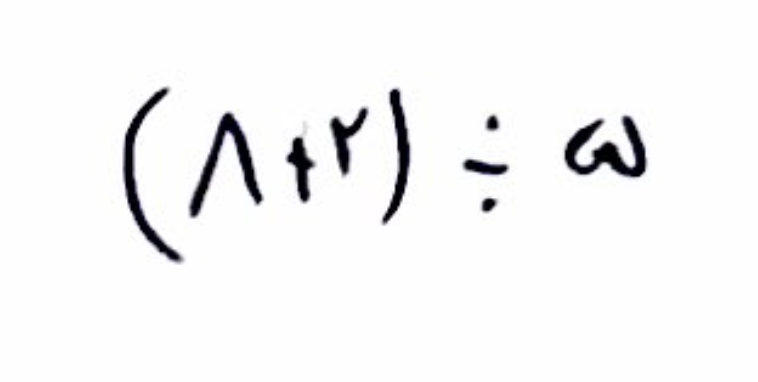character: (123, 84, 180, 262), (190, 112, 263, 217), (564, 113, 647, 178), (462, 114, 509, 212), (381, 87, 409, 224), (331, 106, 371, 176), (287, 137, 317, 203)
